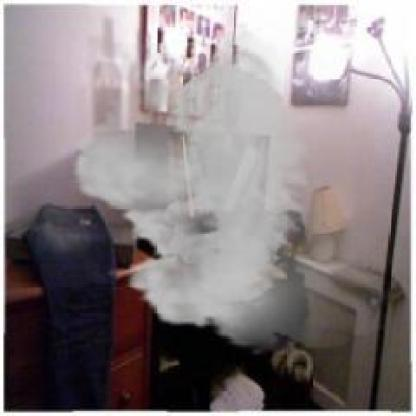Smoke: (59, 20, 407, 354)
